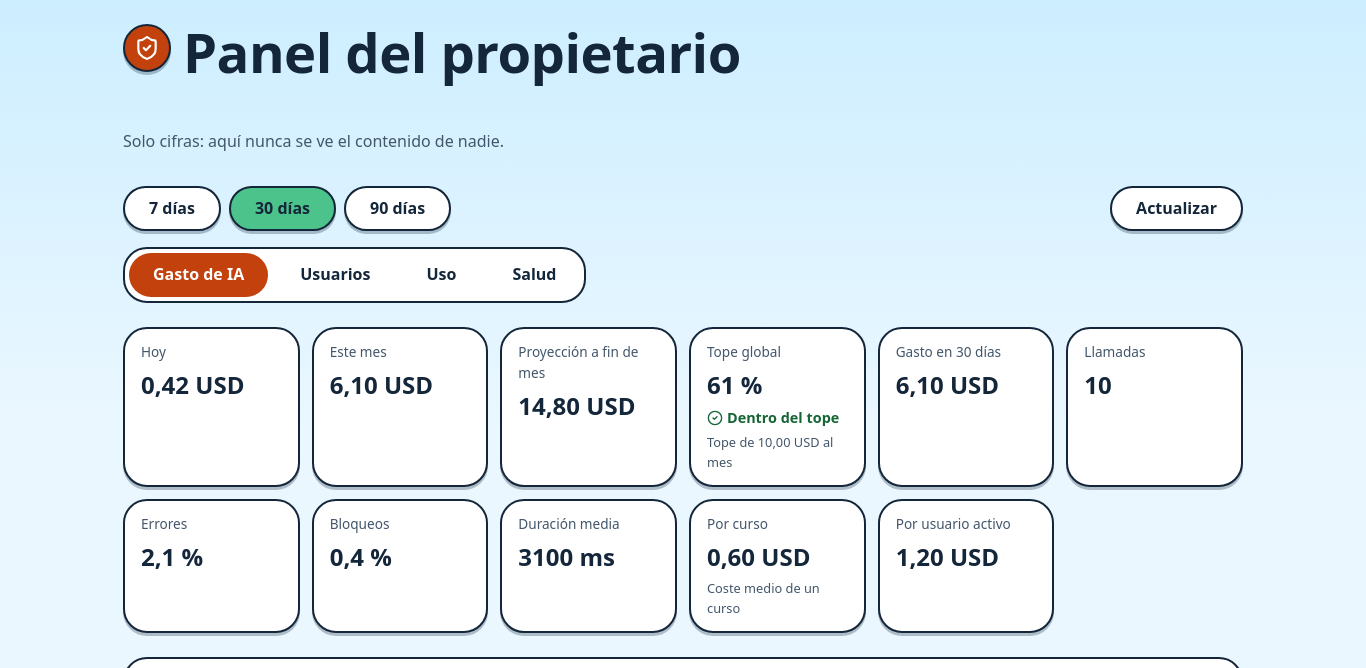
Test: OwnerView: usuarios y conexiones › shows a message when there are no users for the filter
Press the mouse on the tab "Usuarios": [335, 275] box [276,253,394,297]
(page scrolled)
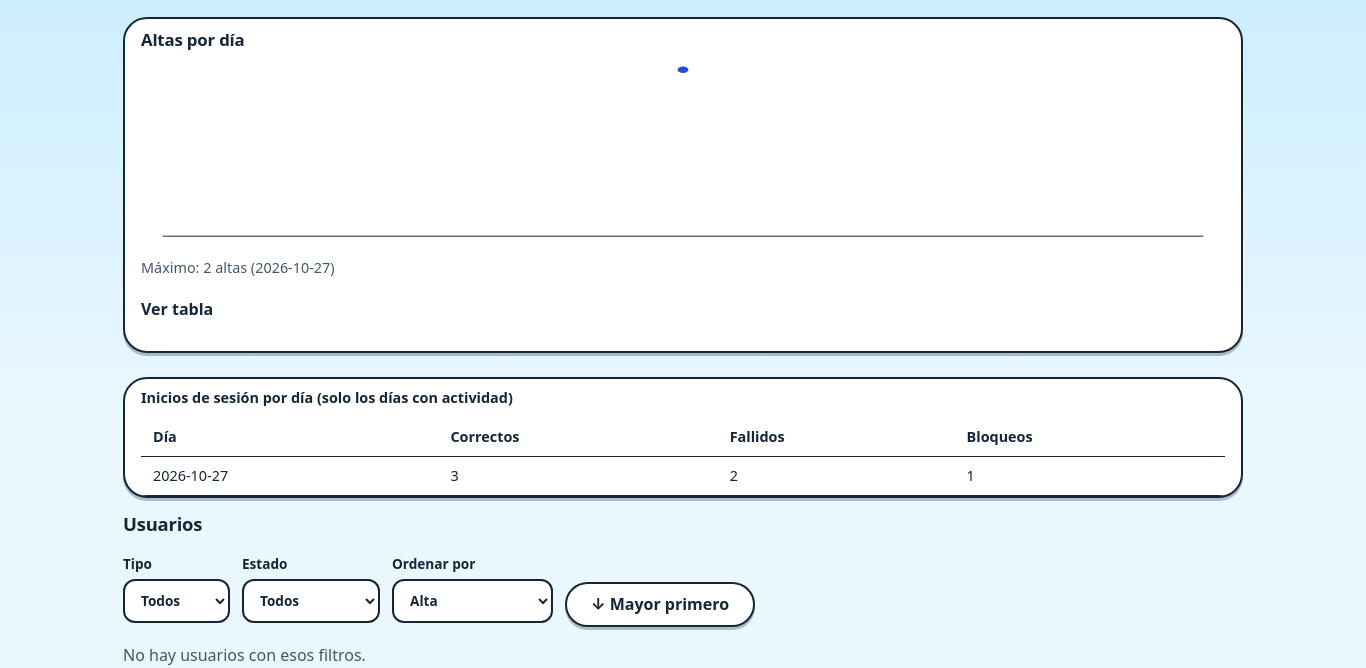
Result: the text "No hay usuarios con esos filtros." is shown at [123,644,366,666]
